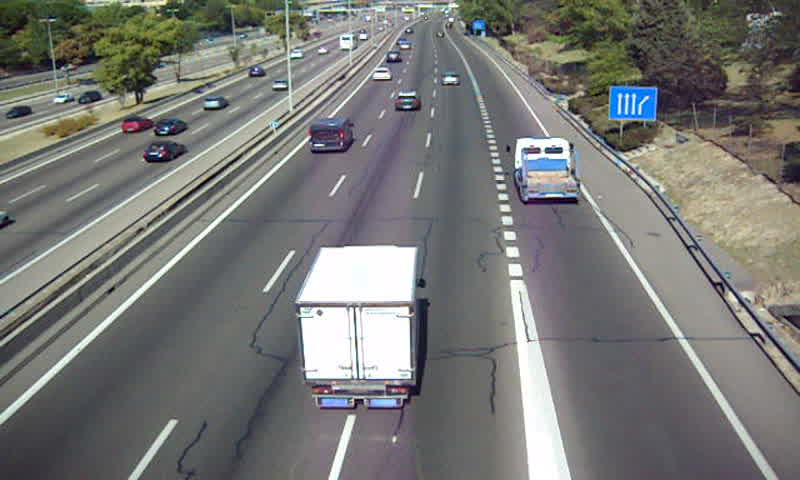car: (394, 90, 422, 114), (370, 67, 390, 84), (441, 72, 461, 88)
small-truck: (296, 245, 421, 407), (514, 136, 581, 204)
van: (309, 119, 353, 151)
